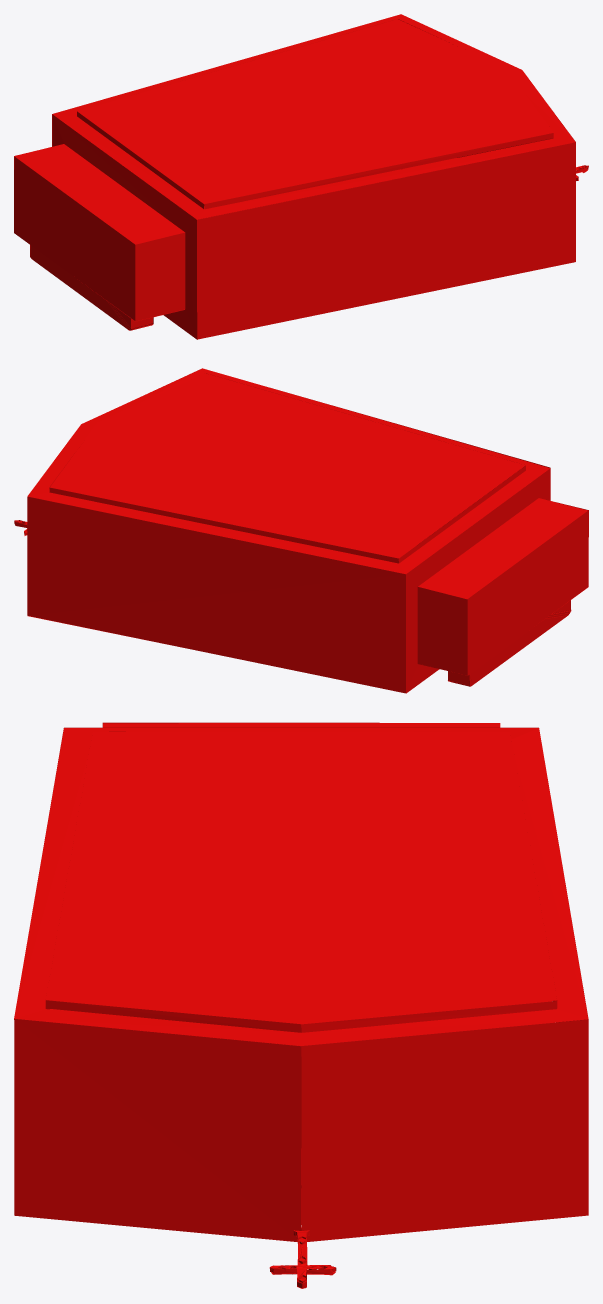
The picture shows the model from 3 angles, top to bottom: view 1: azimuth 30°, elevation 25°; view 2: azimuth 150°, elevation 25°; view 3: azimuth 270°, elevation 25°; orthographic projection. The views are drawn at different scales.
Parts seen in each view (by area): view 1: Renderer Node; view 2: Renderer Node; view 3: Renderer Node.
Part boxes in pixels (left/top/right/bottom): Renderer Node: left=14, top=14, right=588, bottom=339; Renderer Node: left=14, top=368, right=588, bottom=693; Renderer Node: left=14, top=722, right=588, bottom=1288.
Bounding box in the file's own units: 0.8418 × 0.2152 × 0.4965.
1 material, 1 textured.
